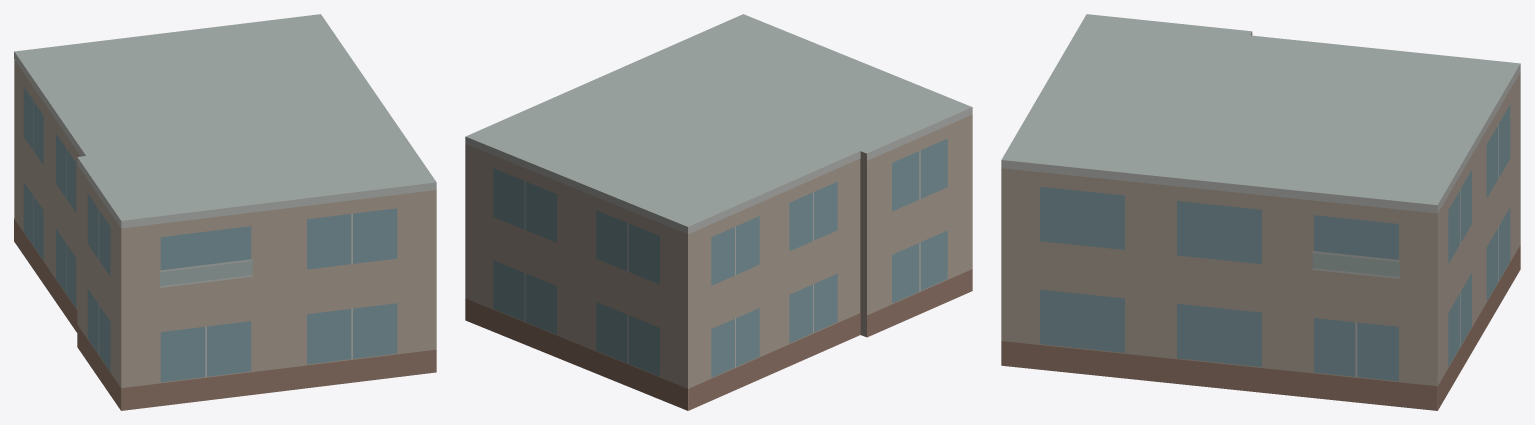
The model's file is survey-upis-32803016.glb.
The picture shows the model from 3 angles, left to right: view 1: azimuth 30°, elevation 25°; view 2: azimuth 150°, elevation 25°; view 3: azimuth 270°, elevation 25°; orthographic projection. The views are drawn at different scales.
Visible parts, largest first — view 1: survey-upis-32803016.tmp; view 2: survey-upis-32803016.tmp; view 3: survey-upis-32803016.tmp.
Boxes of the visible parts, bbox=[...] form: survey-upis-32803016.tmp: bbox=[14, 14, 436, 410]; survey-upis-32803016.tmp: bbox=[465, 14, 972, 410]; survey-upis-32803016.tmp: bbox=[1001, 14, 1520, 410].
Bounding box in the file's own units: 12.17 × 6.1 × 13.97.
